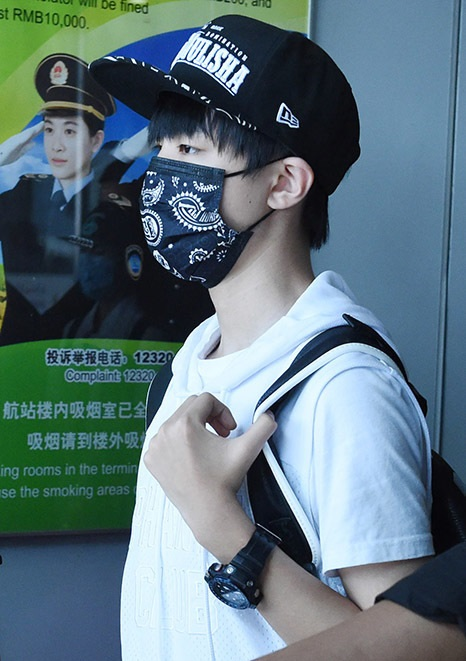face: (44, 102, 89, 177)
face_mask: (141, 89, 261, 273)
